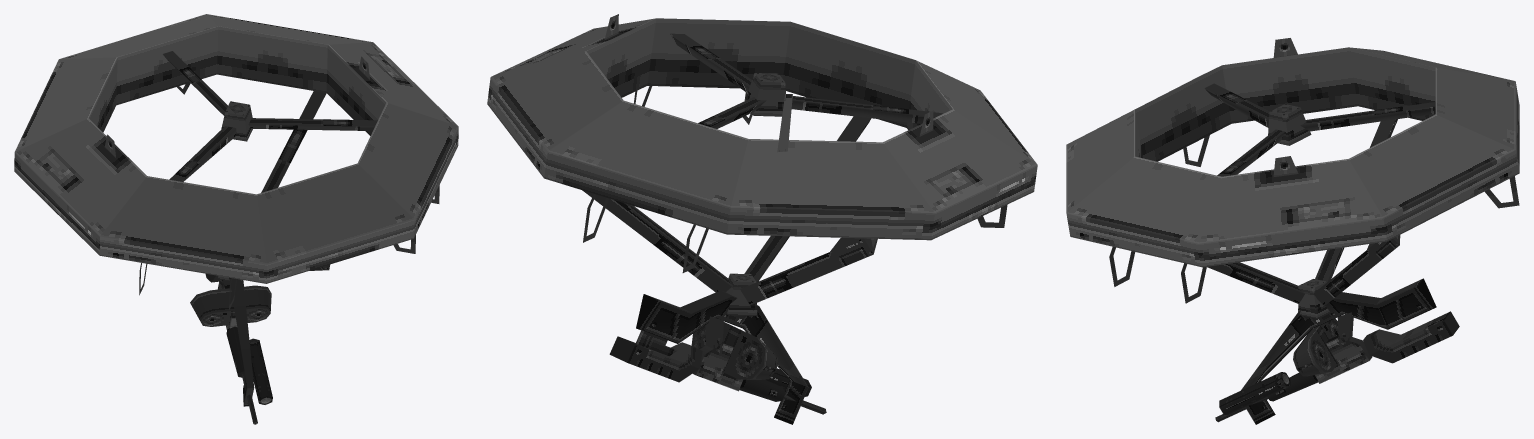
The model's file is ps2_save-icons_metalgearsolid2sonsofliberty-plantchaptercleared.glb.
The picture shows the model from 3 angles, left to right: view 1: azimuth 30°, elevation 25°; view 2: azimuth 150°, elevation 25°; view 3: azimuth 270°, elevation 25°; orthographic projection. The views are drawn at different scales.
Visible parts, largest first — view 1: mgs2.ico; view 2: mgs2.ico; view 3: mgs2.ico.
Boxes of the visible parts, x1,y1,x2,y2 form: mgs2.ico: [14, 14, 458, 424]; mgs2.ico: [487, 14, 1037, 424]; mgs2.ico: [1066, 38, 1519, 424].
Bounding box in the file's own units: 3.58 × 3.23 × 3.54.
1 material, 1 textured.
